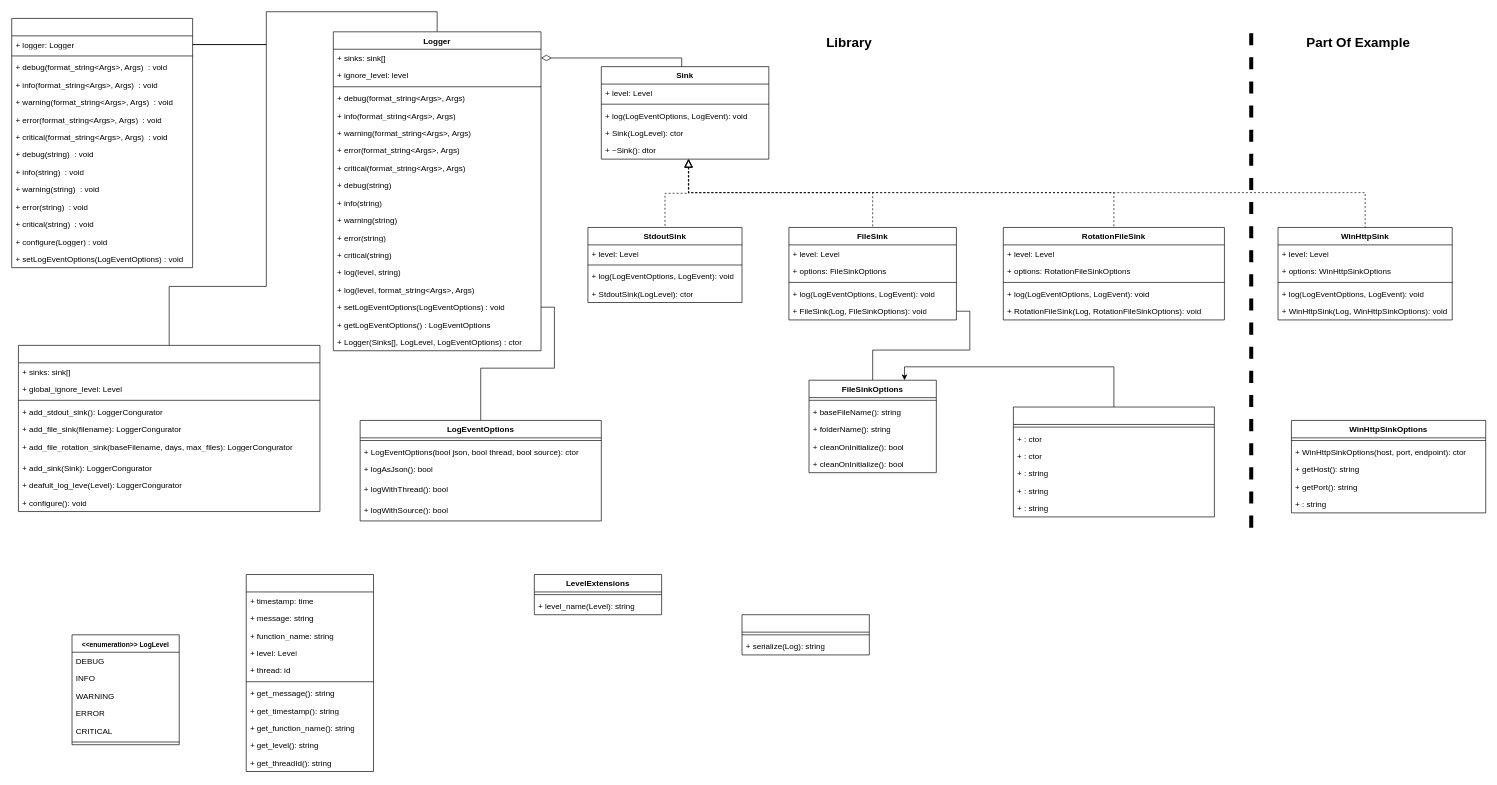
Image size: 1497x785. Some labels were removed from this diagram. Each missing label, with the box of its shape:
cpplog: (11, 18, 193, 268)
LogEvent: (246, 574, 374, 772)
LoggerConfigurator: (18, 345, 320, 512)
LogJsonSerializer: (741, 614, 869, 655)
RotationFileSinkOptions: (1013, 406, 1214, 517)
